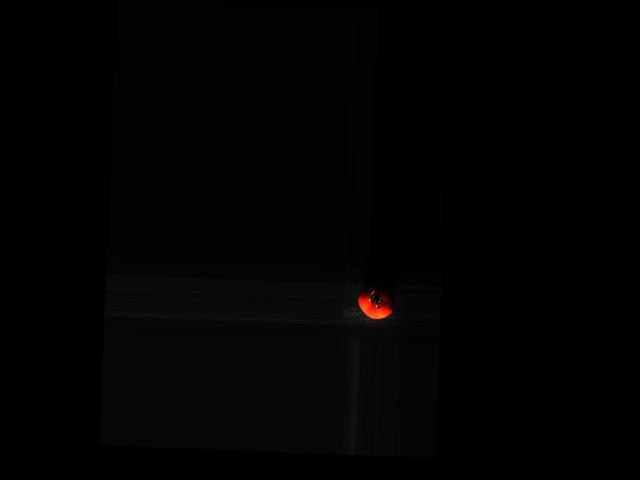tomato: (357, 281, 395, 319)
